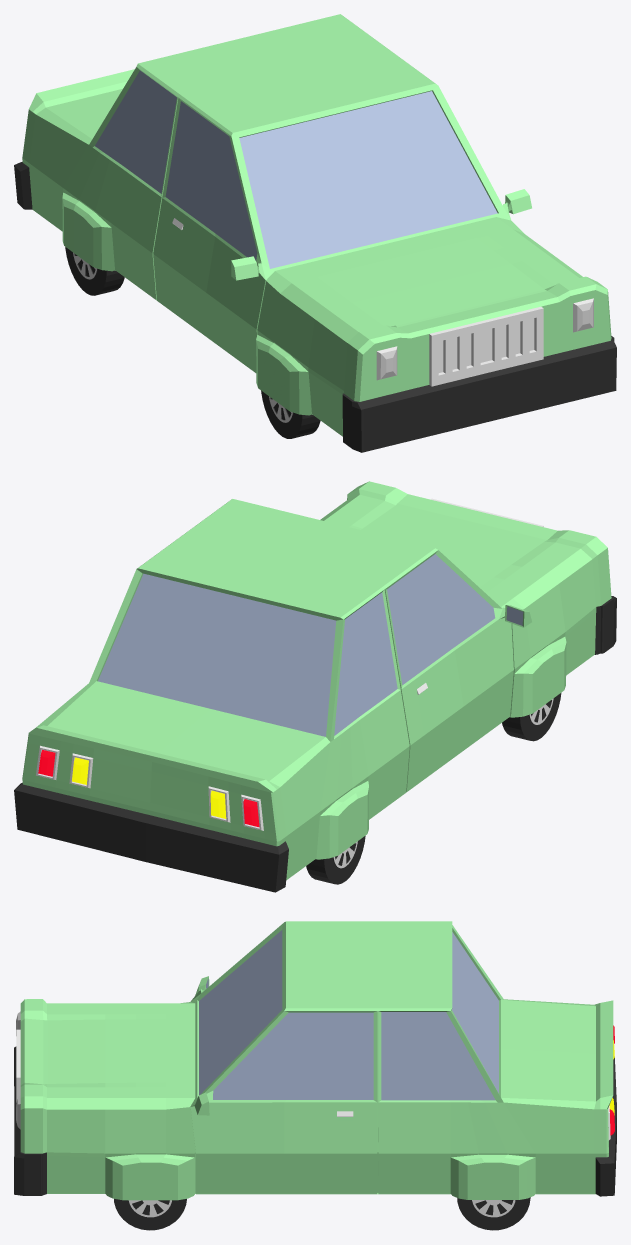
Rendered from Car - Low Poly.fbx.
3 views of the same model, one above another, from view 1: azimuth 30°, elevation 25°; view 2: azimuth 150°, elevation 25°; view 3: azimuth 270°, elevation 25° (orthographic). The views are drawn at different scales.
Visible parts, largest first — view 1: Cube, Cylinder.001, Cylinder; view 2: Cube, Cylinder.001, Cylinder; view 3: Cube, Cylinder.001, Cylinder.
Part boxes in pixels (left/top/right/bottom): Cube: left=14, top=14, right=616, bottom=452; Cylinder.001: left=65, top=247, right=124, bottom=295; Cylinder: left=261, top=390, right=320, bottom=438; Cube: left=14, top=481, right=616, bottom=892; Cylinder.001: left=306, top=836, right=365, bottom=884; Cylinder: left=502, top=693, right=561, bottom=741; Cube: left=14, top=921, right=616, bottom=1200; Cylinder.001: left=457, top=1197, right=530, bottom=1230; Cylinder: left=114, top=1199, right=186, bottom=1230.
Bounding box in the file's own units: 204 × 158 × 410.
